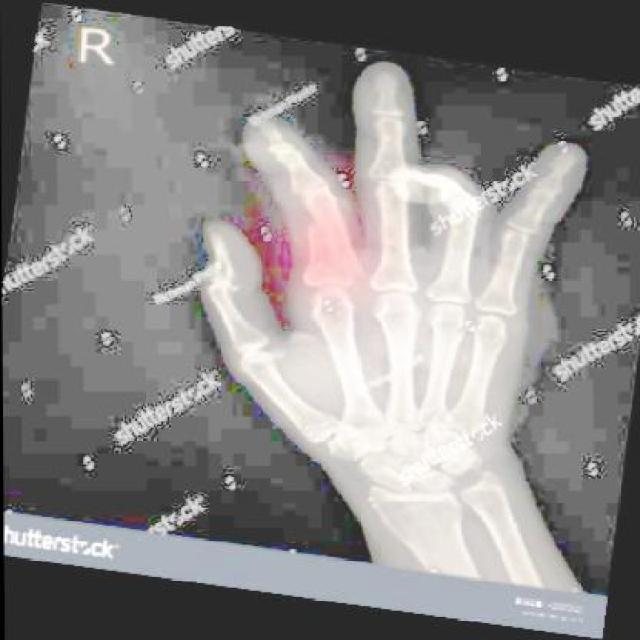Fracture: (295, 198, 373, 291)
